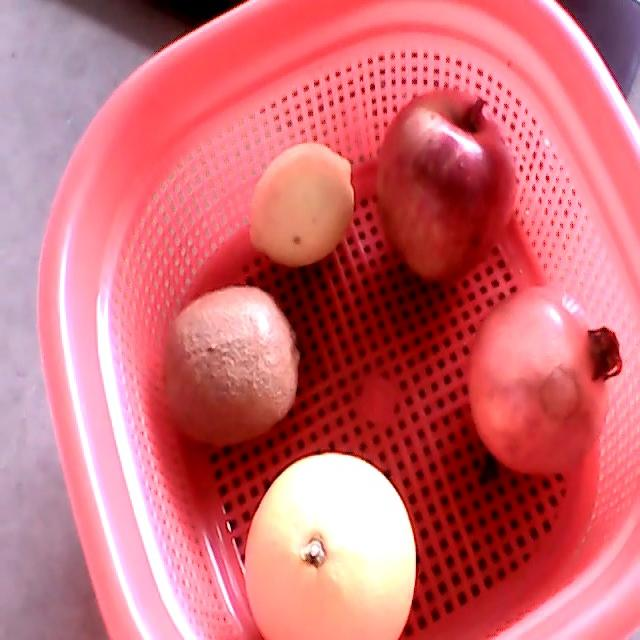apple: (376, 90, 513, 282)
kiwi: (164, 287, 298, 446)
lemon: (249, 144, 354, 267)
orange: (243, 452, 415, 639)
pomegranate: (467, 286, 625, 474)
